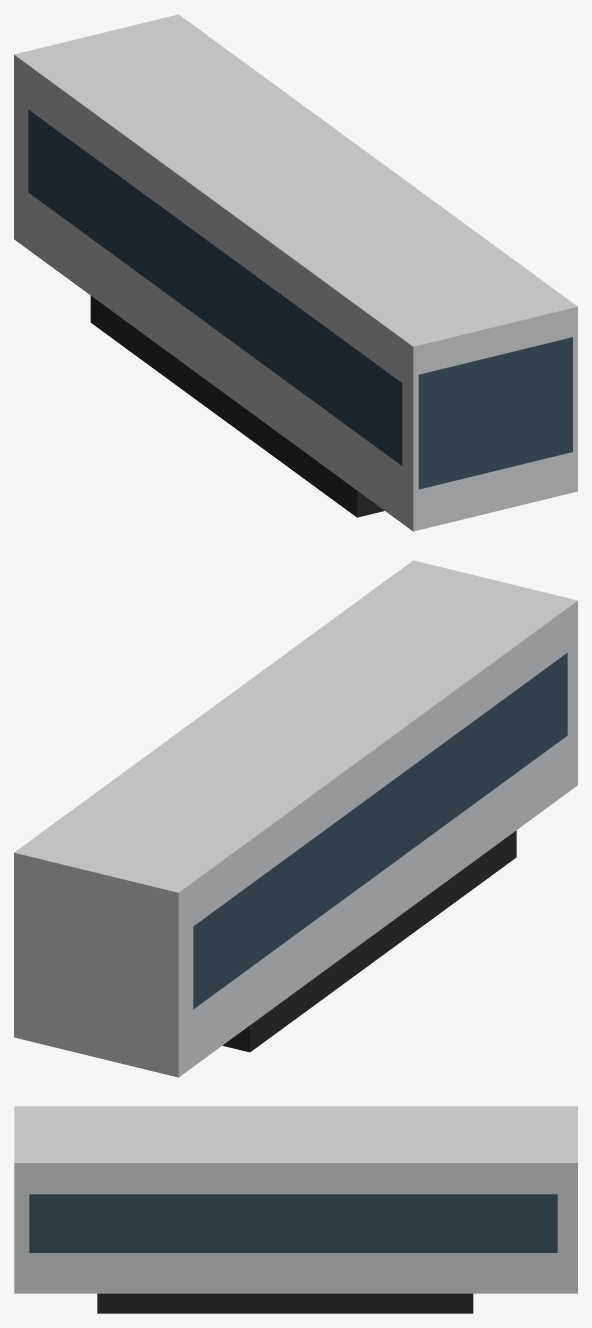
Rendered from 0_far.fbx.
The picture shows the model from 3 angles, top to bottom: view 1: azimuth 30°, elevation 25°; view 2: azimuth 150°, elevation 25°; view 3: azimuth 270°, elevation 25°; orthographic projection. The views are drawn at different scales.
Visible parts, largest first — view 1: 12_0_far; view 2: 12_0_far; view 3: 12_0_far.
Boxes of the visible parts, x1,y1,x2,y2 form: 12_0_far: (14,14,577,531); 12_0_far: (14,560,577,1077); 12_0_far: (14,1106,577,1313).
Bounding box in the file's own units: 2.5 × 3.1 × 10.46.
